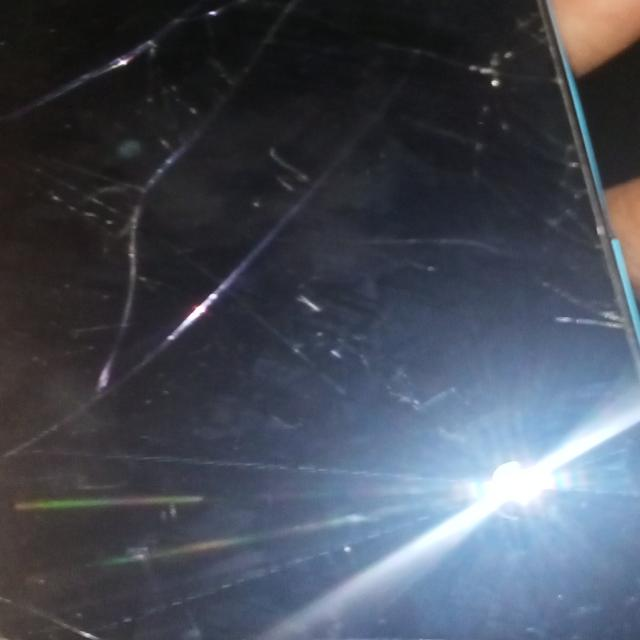Crack: (4, 0, 628, 615)
